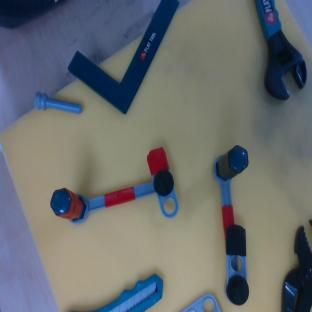non_pass: (213, 145, 249, 305)
pass: (44, 146, 184, 250)
